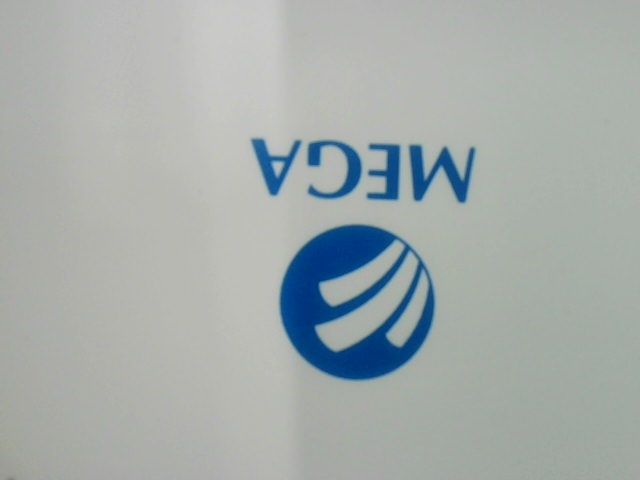AM_ZTEMEGA: (238, 127, 490, 397)
